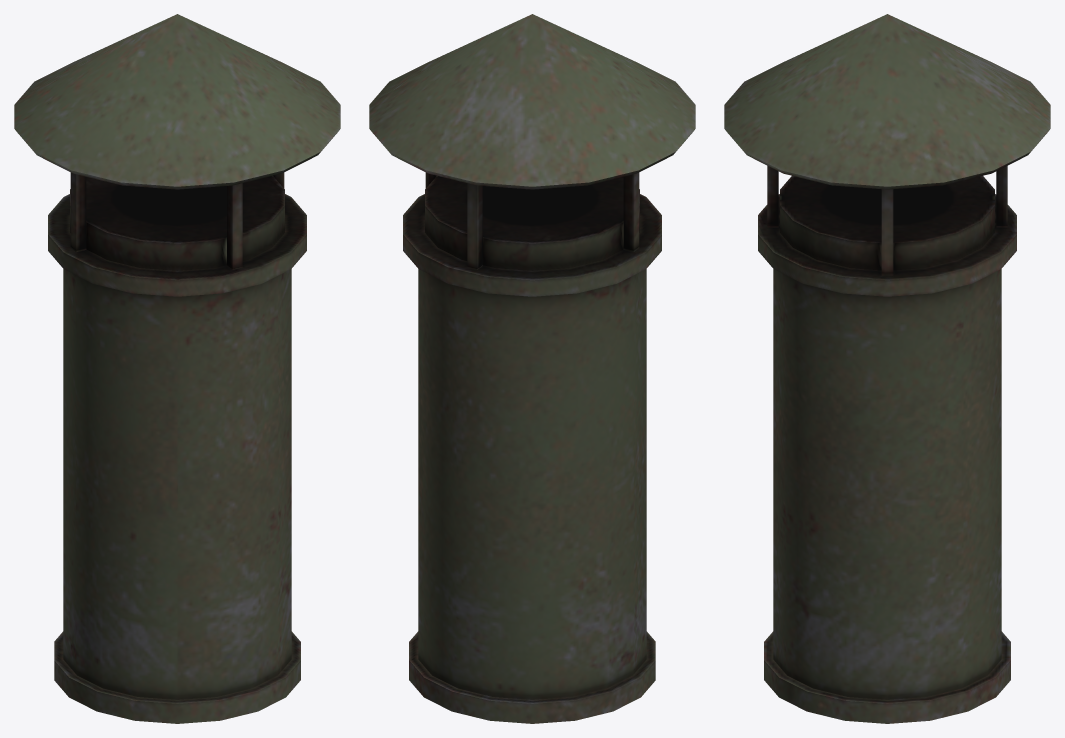
Rendered from Vent_08.fbx.
3 views of the same model, side by side, from view 1: azimuth 30°, elevation 25°; view 2: azimuth 150°, elevation 25°; view 3: azimuth 270°, elevation 25° (orthographic).
Visible parts, largest first — view 1: Vent_8; view 2: Vent_8; view 3: Vent_8.
Part boxes in pixels (x1,y1,x2,y2): Vent_8: (14,14,340,723); Vent_8: (369,14,695,723); Vent_8: (724,14,1050,723).
Size of the model in its own units: 57.88 by 127 by 57.01.
